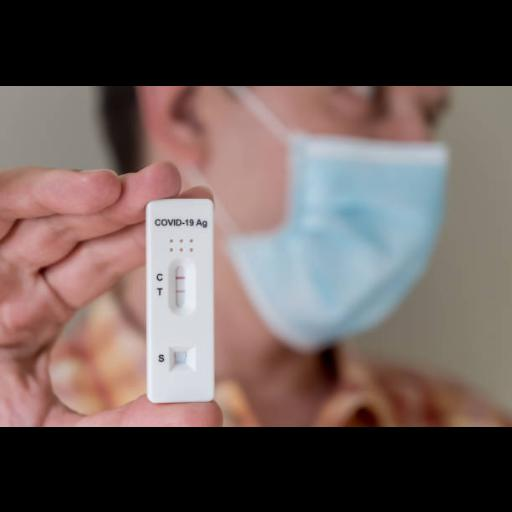Pos: (148, 196, 212, 398)
